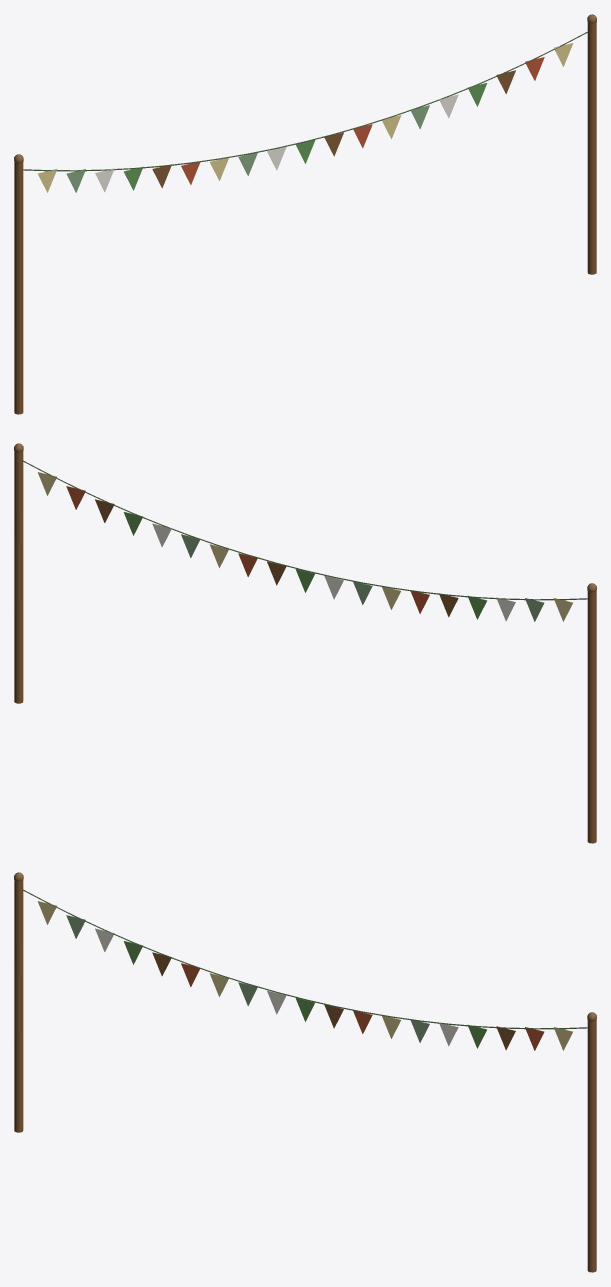
The model's file is bunting_span.glb.
3 renders of one model, top to bottom at view 1: azimuth 30°, elevation 25°; view 2: azimuth 150°, elevation 25°; view 3: azimuth 330°, elevation 25°, orthographic.
Visible parts, largest first — view 1: bunting_span; view 2: bunting_span; view 3: bunting_span.
Boxes of the visible parts, x1,y1,x2,y2 form: bunting_span: (14,14,596,414); bunting_span: (14,443,596,843); bunting_span: (14,872,596,1272).
Size of the model in its own units: 10.15 by 4.3 by 0.1522.
